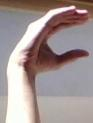C: (0, 0, 93, 74)
